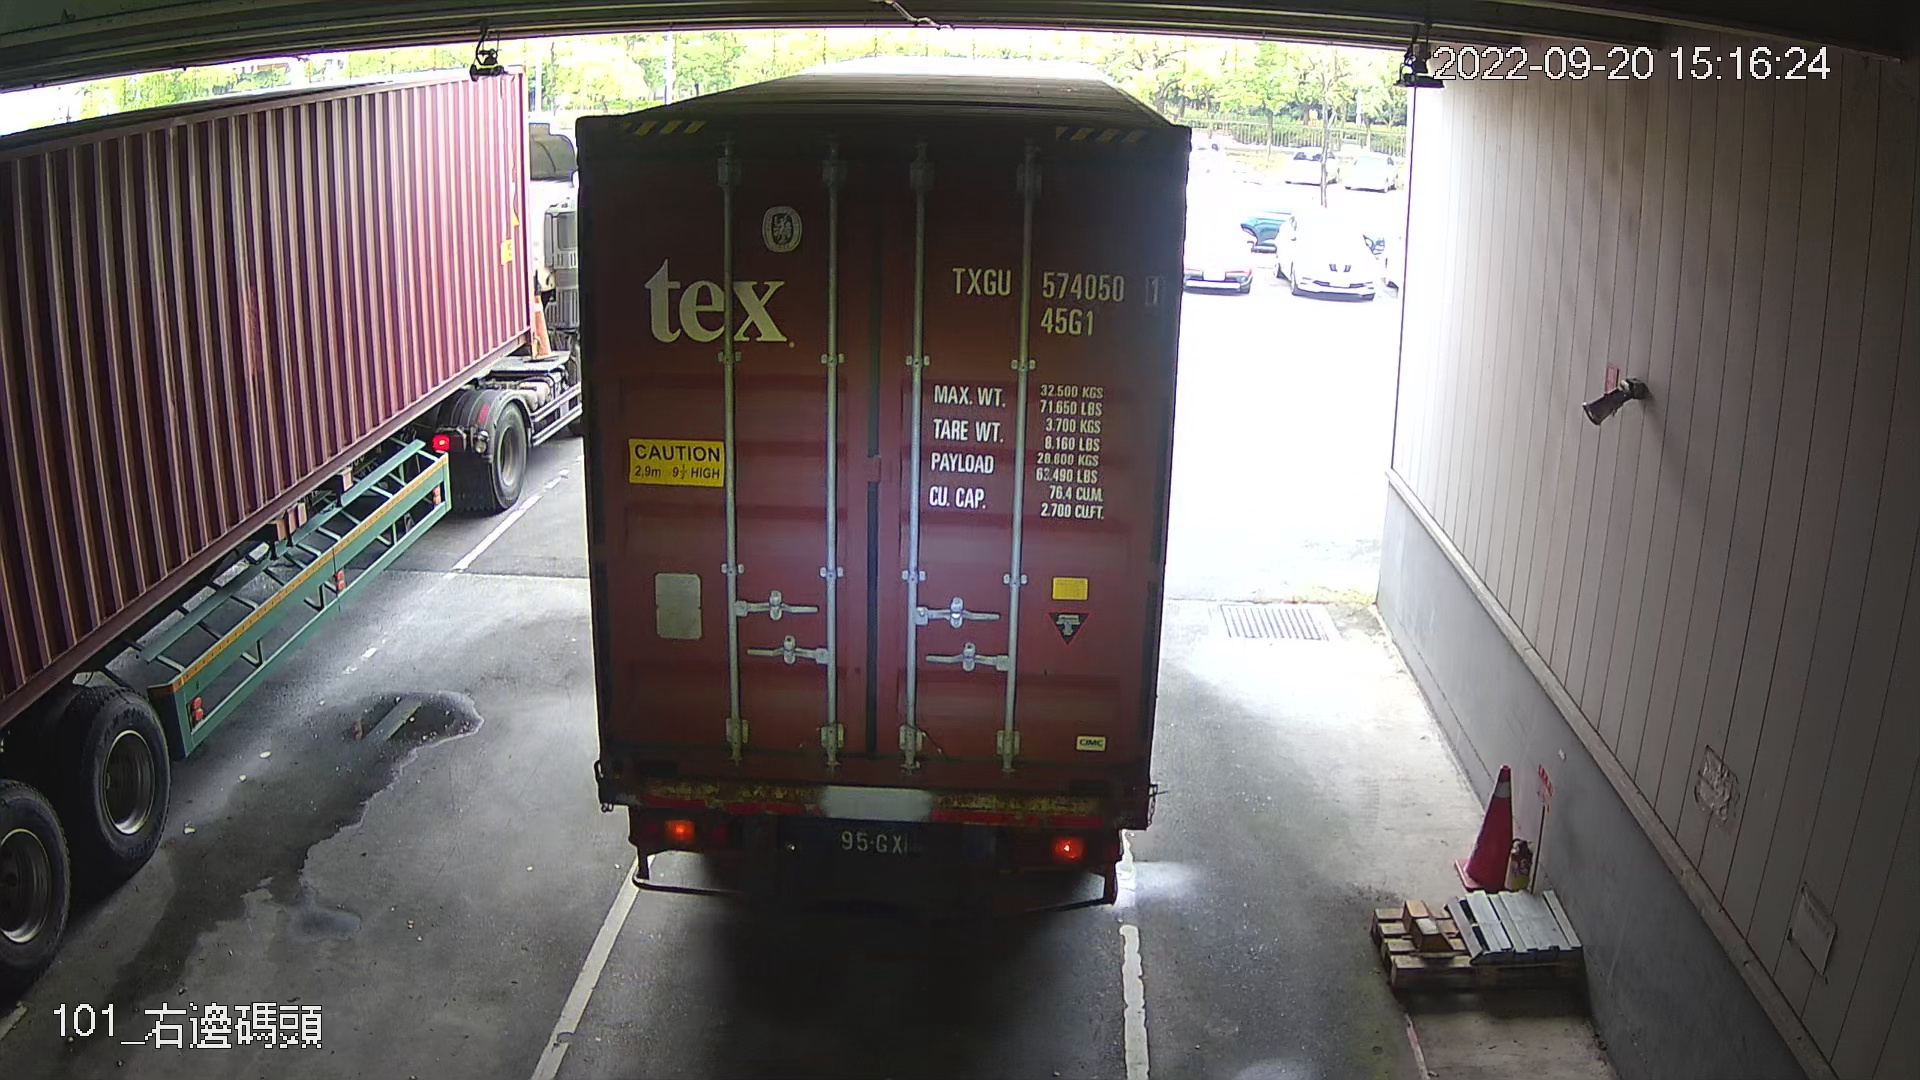container: (942, 252, 1172, 345)
